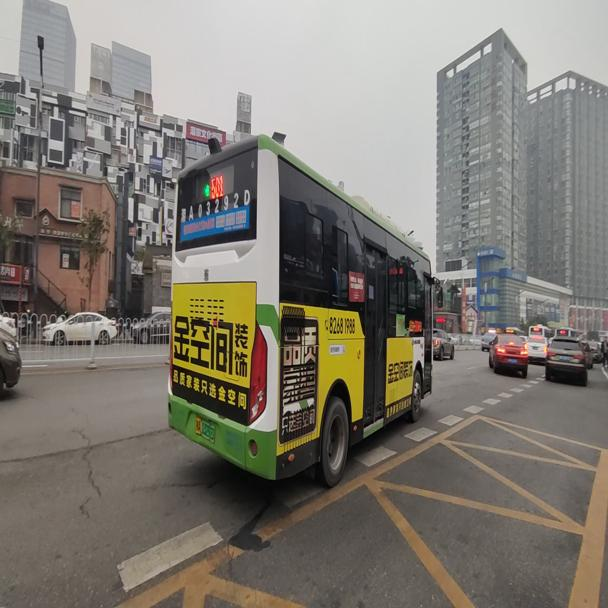bus: (173, 127, 438, 483)
screen: (210, 177, 224, 198)
